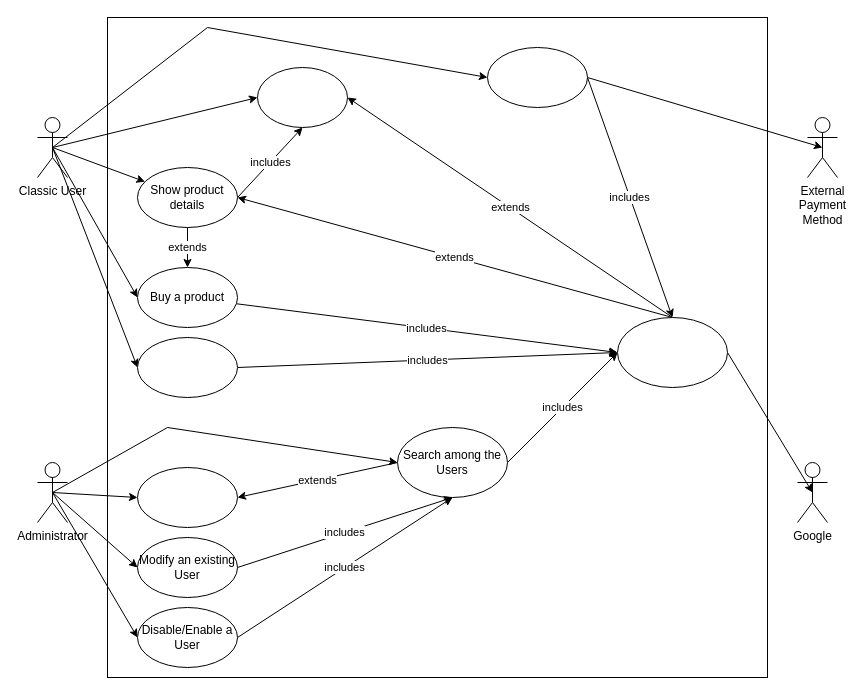
This 863x695 diagram has some shape labels left out. Here are the shapes that lost their labels. From the top down, the box of each, then its label:
(256, 66, 348, 128): Search among the announcements
(486, 46, 588, 108): Add money to the personal account
(136, 336, 238, 398): Insert a new Announce
(616, 316, 728, 388): Login
(136, 466, 238, 528): Insert a new User
